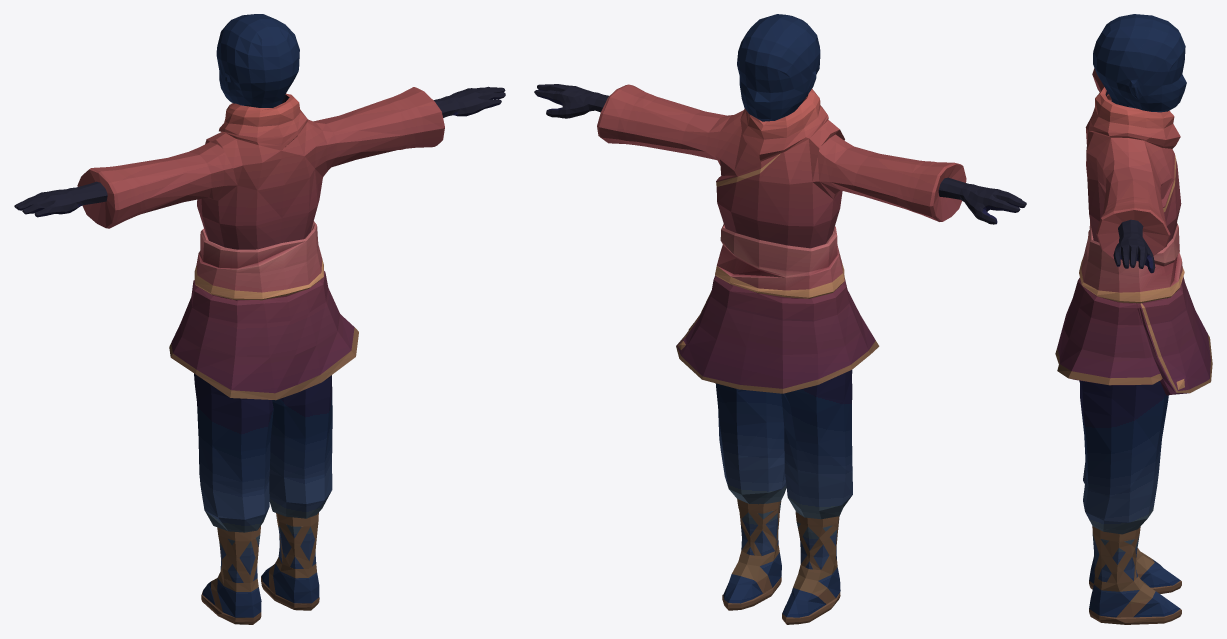
File: CharSkyNPC_Body_AP14DancerSkirt_01.glb
3 renders of one model, left to right at view 1: azimuth 30°, elevation 25°; view 2: azimuth 150°, elevation 25°; view 3: azimuth 270°, elevation 25°, orthographic.
Visible parts, largest first — view 1: CharSkyNPC_Body_AP14DancerSkirt_01; view 2: CharSkyNPC_Body_AP14DancerSkirt_01; view 3: CharSkyNPC_Body_AP14DancerSkirt_01.
Part boxes in pixels (x1,y1,x2,y2): CharSkyNPC_Body_AP14DancerSkirt_01: (14,14,505,624); CharSkyNPC_Body_AP14DancerSkirt_01: (534,14,1026,624); CharSkyNPC_Body_AP14DancerSkirt_01: (1055,14,1212,624).
Size of the model in its own units: 12.42 by 14.19 by 3.46.
1 material, 1 textured.
